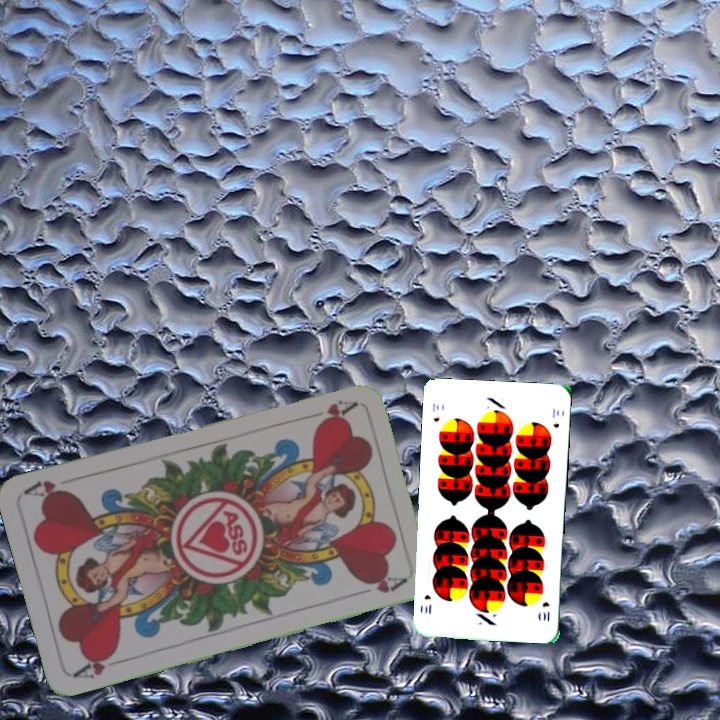HA: (70, 647, 128, 682), (300, 395, 359, 428)
S10: (538, 598, 552, 624), (429, 399, 442, 424)
